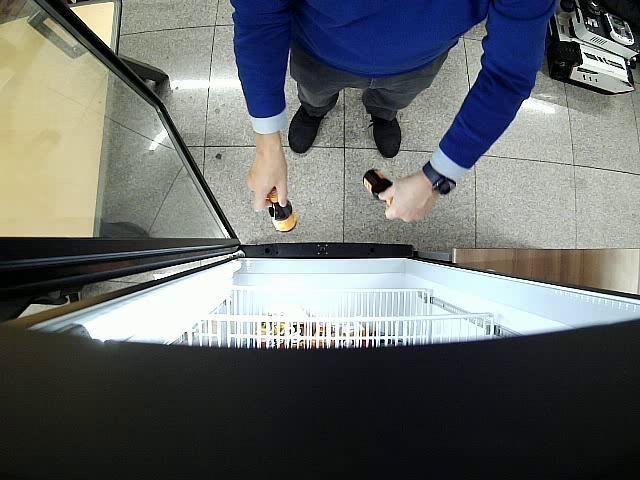17_vita500: (268, 189, 296, 232), (362, 169, 393, 206)
